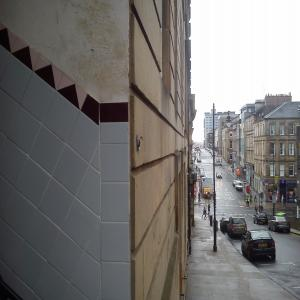Vehicle-registration-plate: (259, 244, 269, 249)
